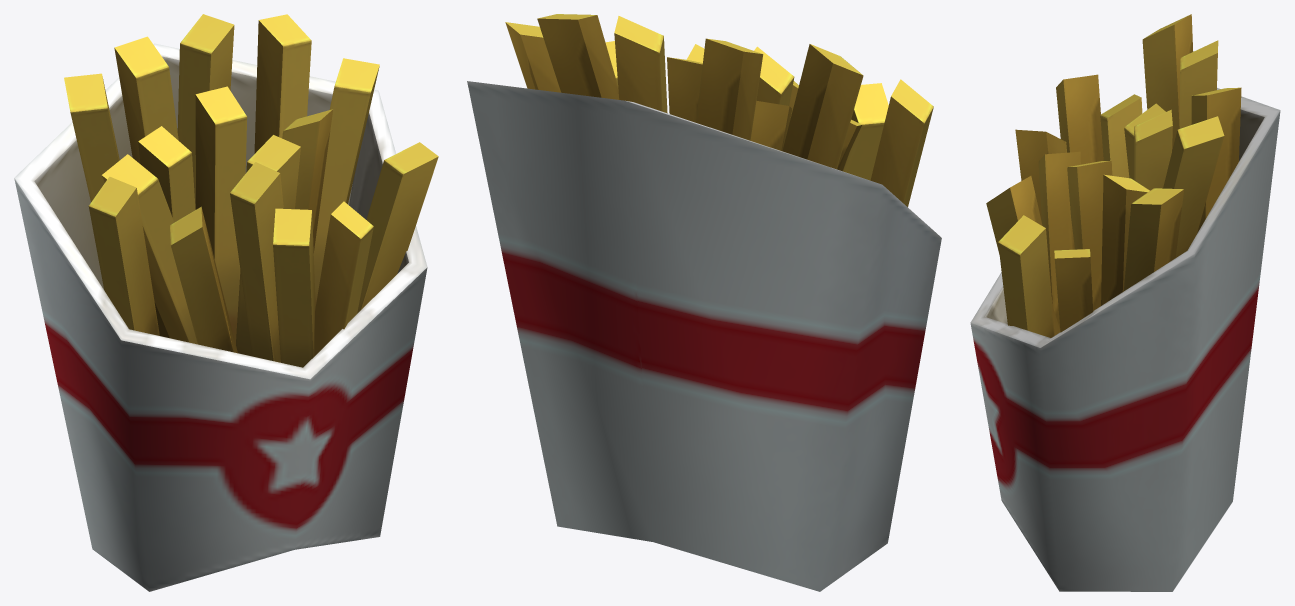
File: fries.fbx
3 renders of one model, left to right at view 1: azimuth 30°, elevation 25°; view 2: azimuth 150°, elevation 25°; view 3: azimuth 270°, elevation 25°, orthographic. The views are drawn at different scales.
Parts seen in each view (by area): view 1: fries2; view 2: fries2; view 3: fries2.
Part boxes in pixels (x1,y1,x2,y2): fries2: (14, 14, 438, 591); fries2: (467, 14, 941, 591); fries2: (970, 14, 1280, 591).
Size of the model in its own units: 4.31 by 5.43 by 3.27.
